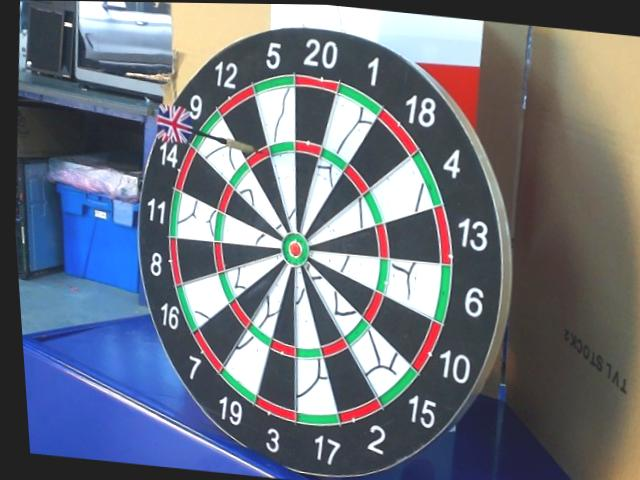triple_12: (245, 147, 270, 168)
